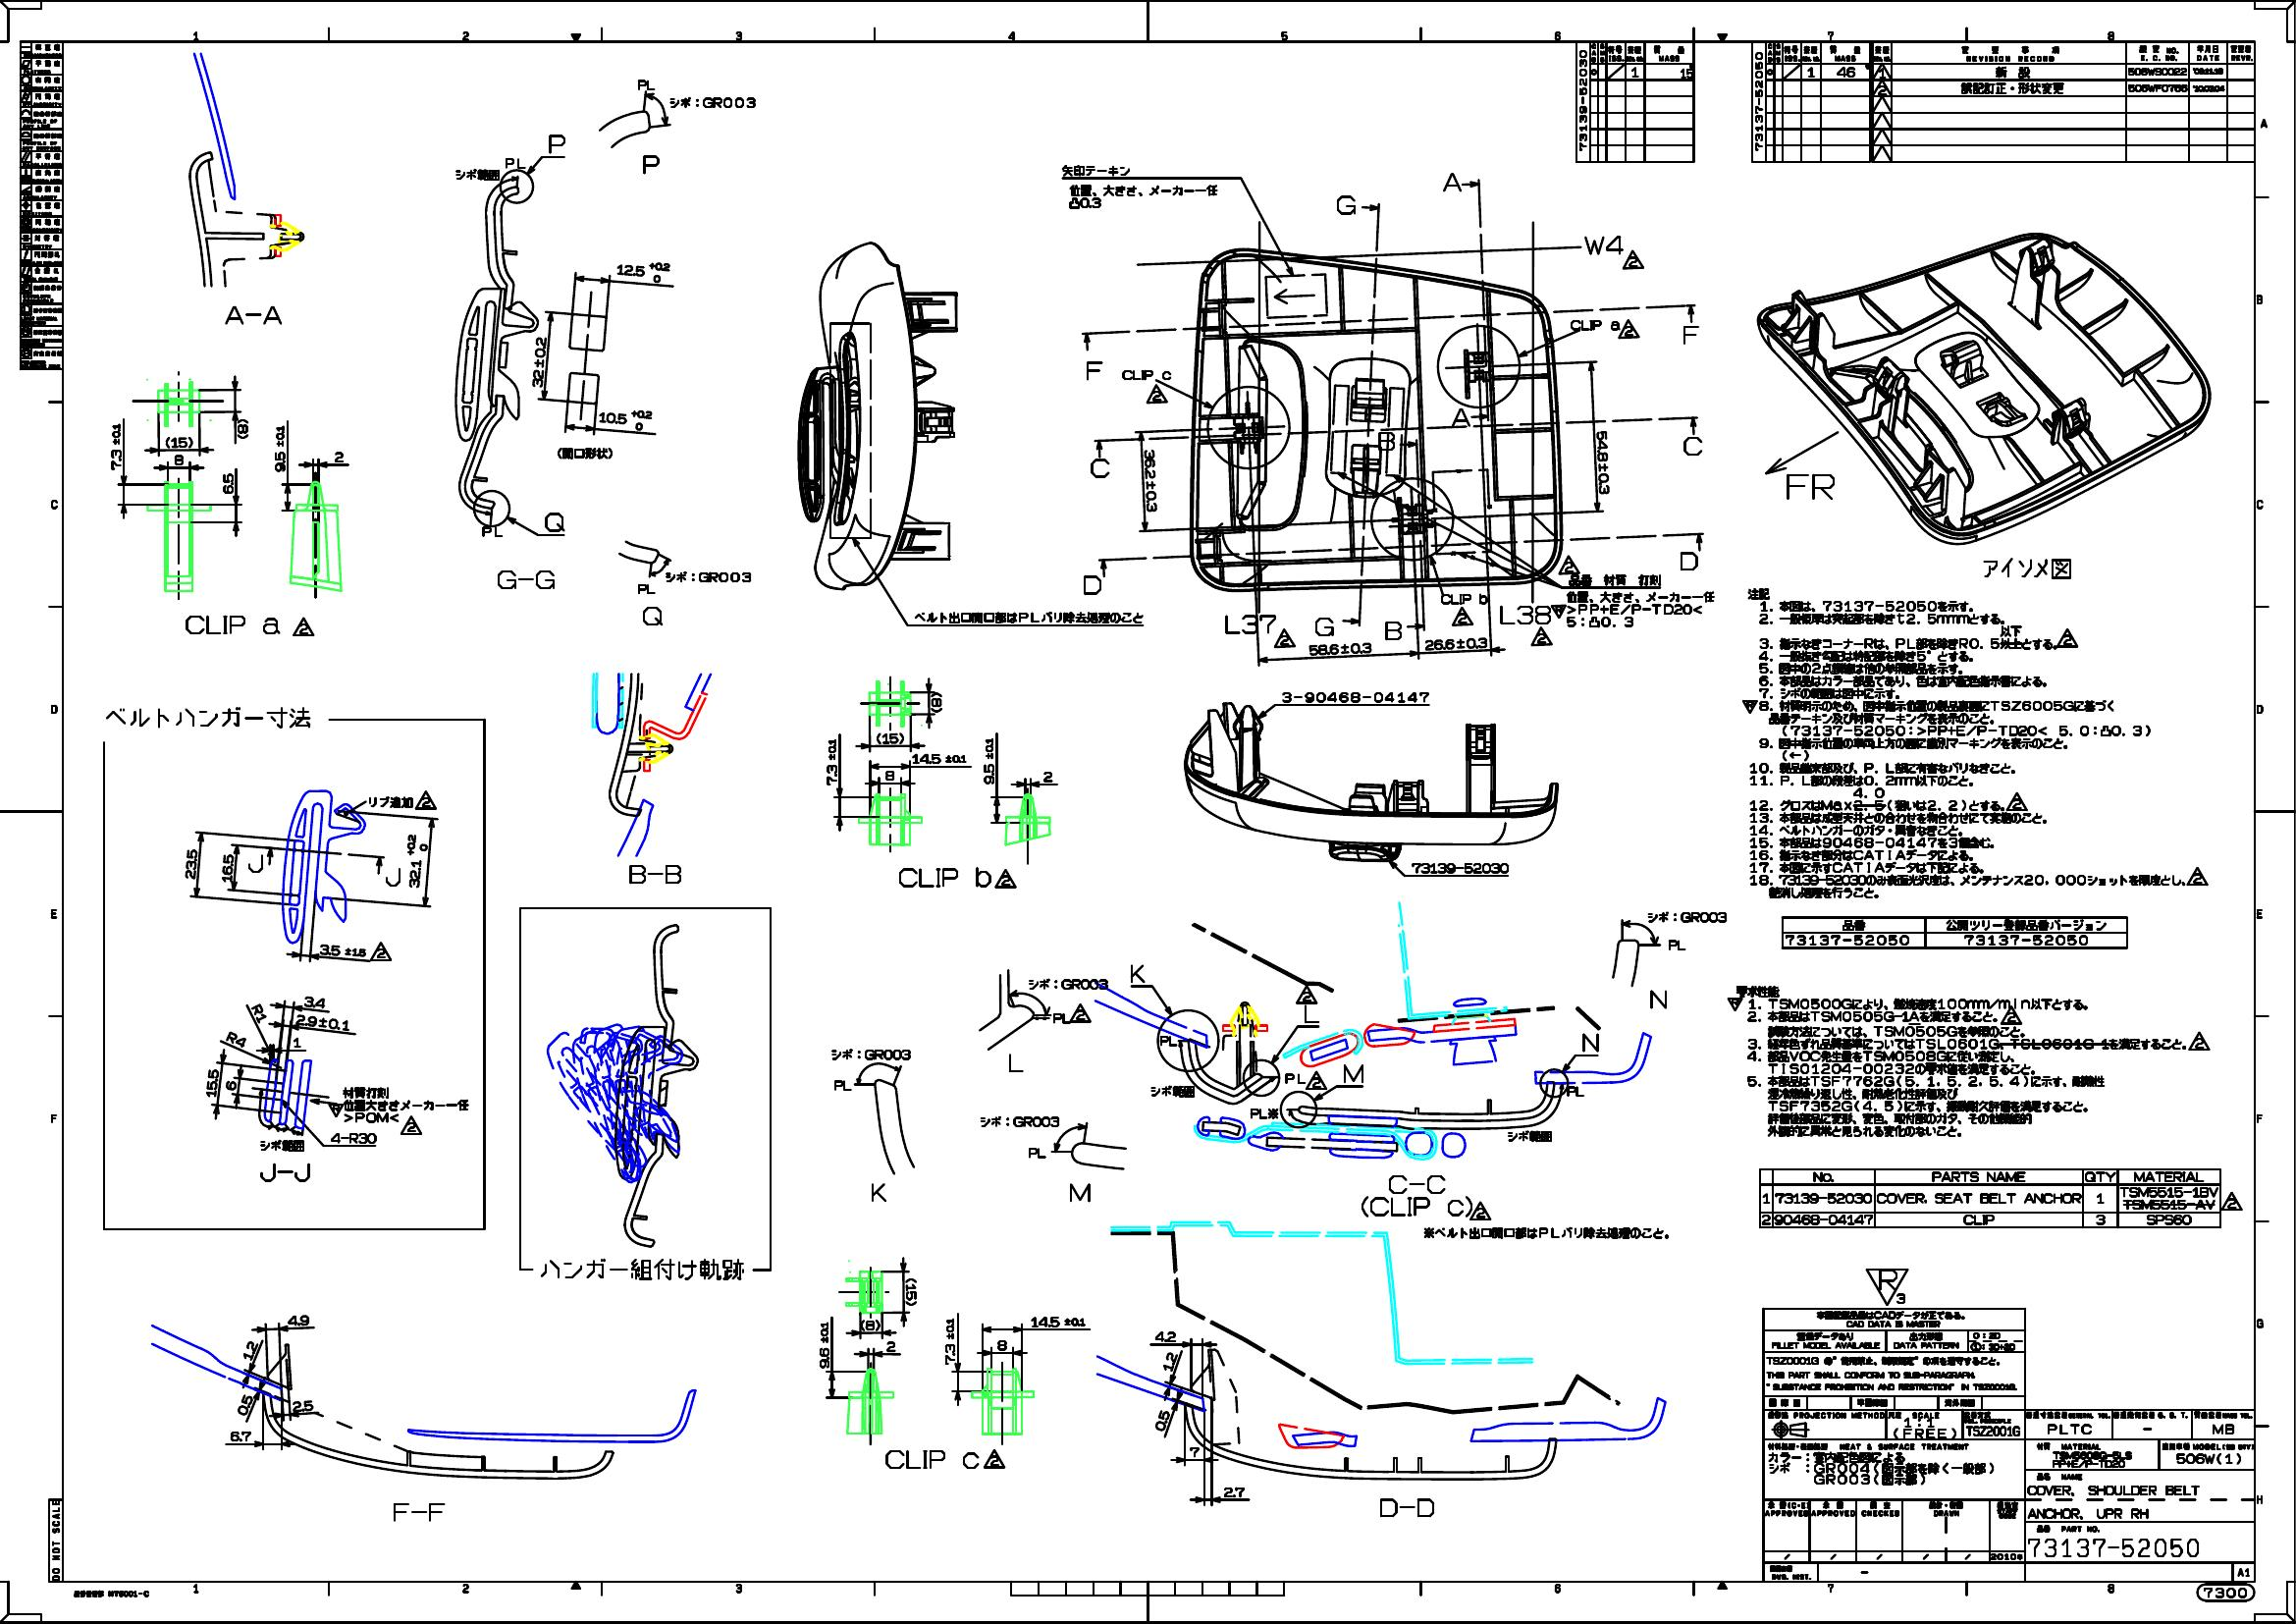anntotation_text: (1741, 587, 2210, 900), (1727, 984, 2210, 1137), (1358, 1174, 1491, 1222), (104, 705, 313, 731), (539, 1258, 745, 1281), (1423, 1227, 1671, 1241), (898, 865, 1017, 893), (1556, 555, 1662, 587), (913, 610, 1145, 624), (183, 613, 314, 638), (341, 1086, 469, 1111), (884, 1450, 1005, 1471), (1982, 557, 2073, 584), (1549, 603, 1706, 617), (1565, 591, 1716, 605), (1068, 183, 1217, 197), (1281, 691, 1430, 703), (1783, 471, 1836, 501), (369, 789, 439, 810), (223, 302, 283, 327), (497, 568, 555, 591), (1379, 1496, 1437, 1519), (392, 1497, 444, 1522), (627, 863, 683, 886), (1411, 861, 1509, 874), (1223, 613, 1275, 636), (1498, 603, 1551, 626), (258, 1162, 311, 1183), (2194, 1584, 2256, 1601), (669, 95, 757, 107), (664, 571, 752, 584), (831, 1048, 912, 1060), (978, 1114, 1059, 1127), (1028, 977, 1108, 990), (1646, 910, 1727, 923), (1061, 163, 1130, 178), (1282, 1069, 1326, 1090), (1583, 234, 1623, 257), (1052, 1002, 1091, 1025), (258, 1137, 306, 1153), (1611, 316, 1641, 341), (557, 446, 613, 459), (1439, 592, 1488, 606), (1505, 1128, 1553, 1142), (74, 1589, 149, 1598), (1620, 248, 1646, 272), (1149, 1084, 1195, 1098), (1121, 367, 1172, 380), (1312, 615, 1339, 638), (453, 169, 501, 181), (344, 1113, 399, 1123), (1530, 626, 1555, 649), (330, 1132, 374, 1144), (543, 510, 566, 533), (1342, 1062, 1365, 1084), (1145, 383, 1168, 406), (399, 1114, 423, 1135), (1272, 627, 1296, 649), (1068, 1181, 1091, 1202), (1082, 573, 1103, 596), (1440, 170, 1463, 192), (1451, 606, 1474, 627), (641, 605, 662, 626), (1295, 984, 1318, 1004), (1648, 988, 1667, 1011), (1383, 620, 1402, 643), (1007, 1051, 1024, 1076), (1569, 318, 1602, 330), (546, 132, 566, 153), (641, 153, 661, 174), (1581, 1032, 1600, 1053), (1084, 359, 1103, 380), (1337, 195, 1356, 216), (1679, 550, 1699, 571), (1449, 408, 1472, 425), (1683, 434, 1700, 457), (1089, 459, 1108, 478), (1377, 431, 1397, 450), (870, 1181, 887, 1202), (1130, 961, 1147, 982), (1681, 323, 1699, 344), (1249, 1107, 1279, 1120), (504, 155, 527, 169), (480, 526, 504, 538), (636, 582, 655, 596), (833, 1077, 852, 1091), (1667, 939, 1685, 953), (636, 77, 655, 90), (1028, 1146, 1047, 1158), (1565, 1084, 1585, 1097), (1159, 1035, 1177, 1048)
dimension_text: (404, 833, 427, 891), (615, 258, 671, 281), (597, 408, 652, 429), (1309, 642, 1372, 656), (1565, 615, 1634, 627), (1597, 429, 1609, 496), (295, 1014, 351, 1028), (1425, 638, 1488, 650), (320, 942, 367, 958), (942, 1316, 956, 1366), (824, 736, 838, 786), (912, 752, 966, 765), (1145, 448, 1156, 511), (982, 736, 996, 784), (532, 336, 545, 388), (1029, 1316, 1086, 1327), (274, 425, 286, 473), (111, 422, 121, 471), (819, 1320, 829, 1369), (204, 1067, 218, 1098), (1068, 197, 1101, 209), (184, 847, 197, 879), (221, 852, 234, 882), (1154, 1329, 1177, 1343), (1154, 1410, 1168, 1431), (1223, 1485, 1245, 1497), (237, 1394, 249, 1417), (228, 1431, 251, 1443), (304, 995, 327, 1007), (221, 473, 234, 494), (1163, 1350, 1175, 1371), (242, 1339, 255, 1360), (292, 1401, 314, 1411), (286, 1315, 309, 1325), (170, 436, 188, 448), (905, 1283, 917, 1301), (882, 733, 899, 743), (884, 768, 896, 782), (332, 450, 344, 462), (225, 1079, 237, 1091), (1189, 1445, 1200, 1457), (996, 1339, 1007, 1352), (1042, 772, 1054, 782), (237, 424, 248, 434), (885, 1341, 896, 1352), (864, 1320, 875, 1330), (174, 453, 183, 466), (293, 1037, 302, 1049), (929, 698, 942, 707)
object: (1093, 1220, 1667, 1506), (1093, 900, 1653, 1160), (1755, 232, 2213, 547), (1188, 248, 1565, 592), (149, 1322, 696, 1480), (1182, 700, 1558, 861), (796, 241, 959, 591), (545, 923, 699, 1250), (453, 178, 539, 515), (186, 53, 304, 286), (590, 671, 713, 858), (279, 789, 365, 944), (564, 271, 611, 436), (854, 1065, 915, 1174), (288, 480, 344, 592), (977, 968, 1051, 1051), (132, 378, 227, 429), (970, 1367, 1035, 1436), (597, 90, 671, 149), (1051, 1121, 1126, 1171), (1609, 917, 1660, 986), (264, 1058, 313, 1128), (857, 793, 922, 845), (845, 1367, 894, 1436), (1005, 793, 1051, 847), (866, 680, 912, 728), (617, 540, 671, 578), (843, 1269, 884, 1313)
title_block: (1762, 1308, 2256, 1582), (1750, 40, 2254, 162), (1758, 1169, 2222, 1227), (1574, 40, 1695, 162), (19, 39, 63, 369), (1781, 916, 2127, 949)
